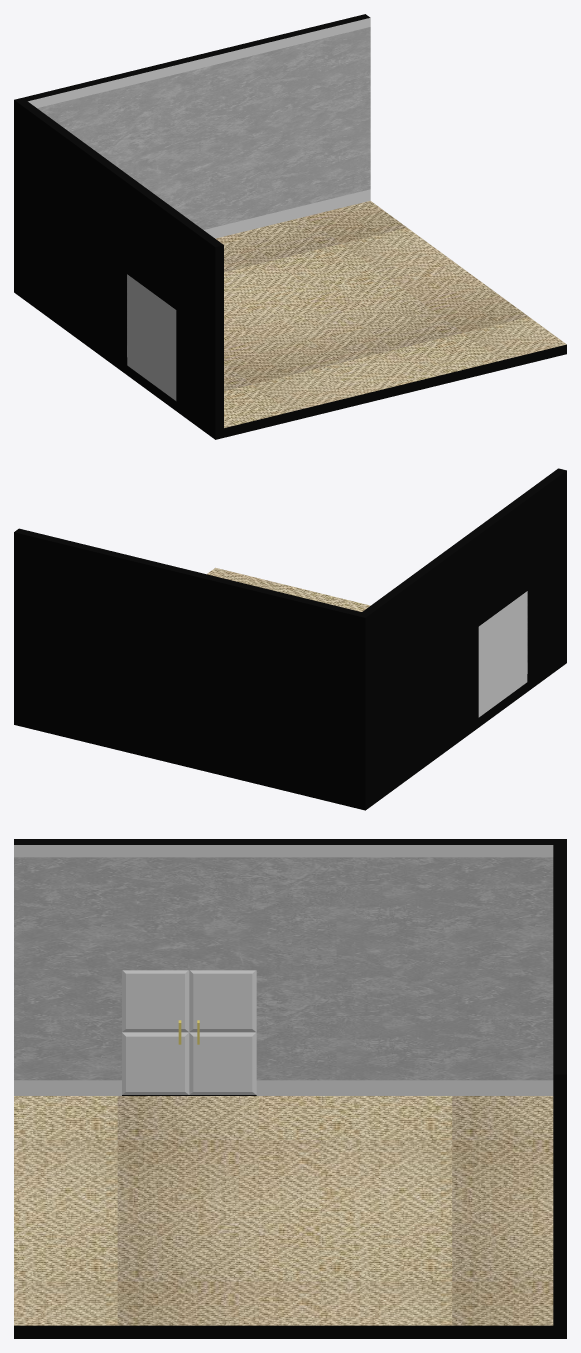
The model's file is BedroomBaseB.glb.
The picture shows the model from 3 angles, top to bottom: view 1: azimuth 30°, elevation 25°; view 2: azimuth 150°, elevation 25°; view 3: azimuth 270°, elevation 25°; orthographic projection. The views are drawn at different scales.
Visible parts, largest first — view 1: Cube.001, Cube.003, Cube.002; view 2: Cube.001, Cube.002, Cube.003; view 3: Cube.001, Cube.002, Cube.003.
Part boxes in pixels (<box>): Cube.001: <box>14,14,566,439</box>; Cube.003: <box>127,274,151,382</box>; Cube.002: <box>152,292,176,400</box>; Cube.001: <box>14,468,566,810</box>; Cube.002: <box>503,591,527,699</box>; Cube.003: <box>478,609,502,717</box>; Cube.001: <box>14,839,566,1338</box>; Cube.002: <box>122,970,189,1094</box>; Cube.003: <box>189,970,256,1094</box>.
Size of the model in its own units: 4.02 by 2.1 by 3.99.
6 materials, 2 textured.
